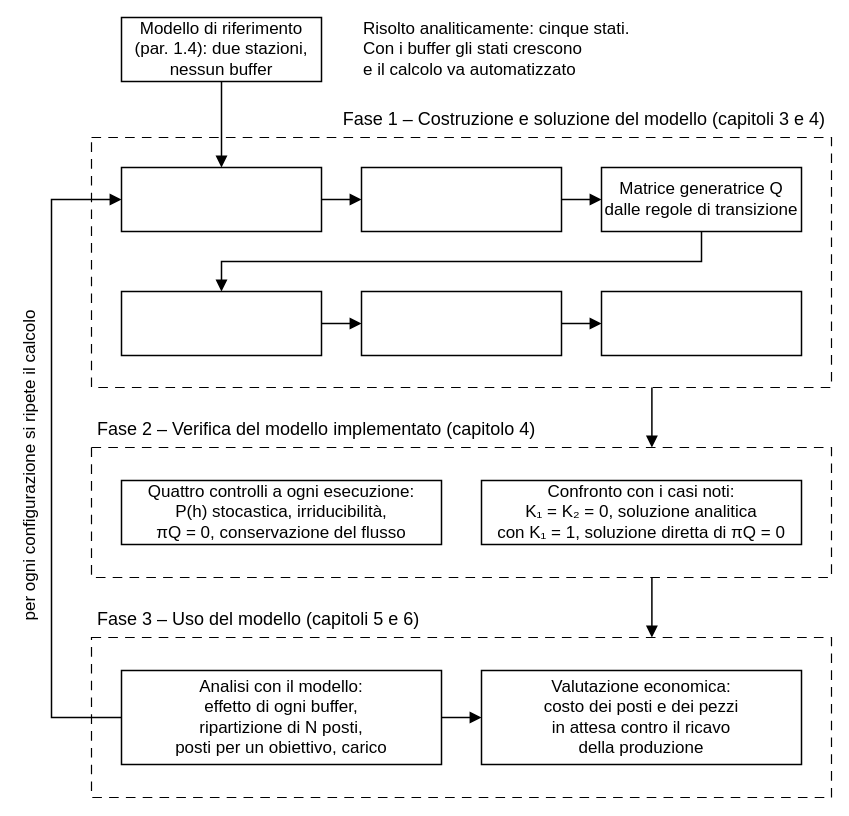
Some shapes in this 849 by 816 pixel diagram are drawn without their labels. Here are the shapes that lost their labels. From the top down, the centre of each, then its label:
the point at 221,199: Ipotesi e dati λ, μ, K₁, K₂
the point at 461,199: Generazione degli stati N(i, j) e B(i, K₂+1)
the point at 221,323: Matrice di transizione P(h) = I + Q h
the point at 461,323: Convergenza p(n) = p(n−1) P(h) → π
the point at 701,323: Indici di prestazione: X, P rif , P(M1 bloccata), L, W
